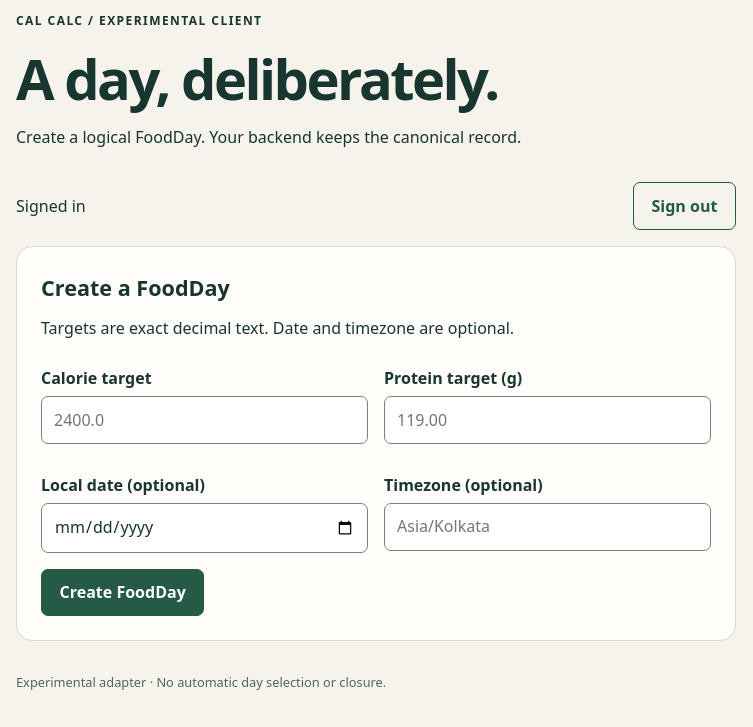
experimental FoodDay client › signs out and clears the prior result
Expected: the heading "Create a FoodDay" is shown, [41,273,230,302]
In the field labelled "Calorie target": (204, 420) [41,396,368,444], type "685.107500"
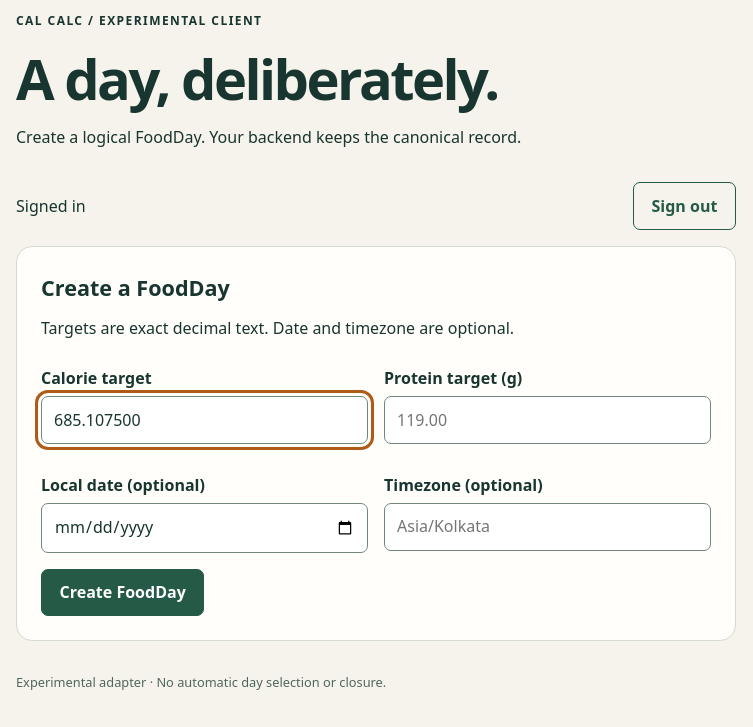
In the field labelled "Protein target (g)": (548, 420) [384,396,711,444], type "41.002500"
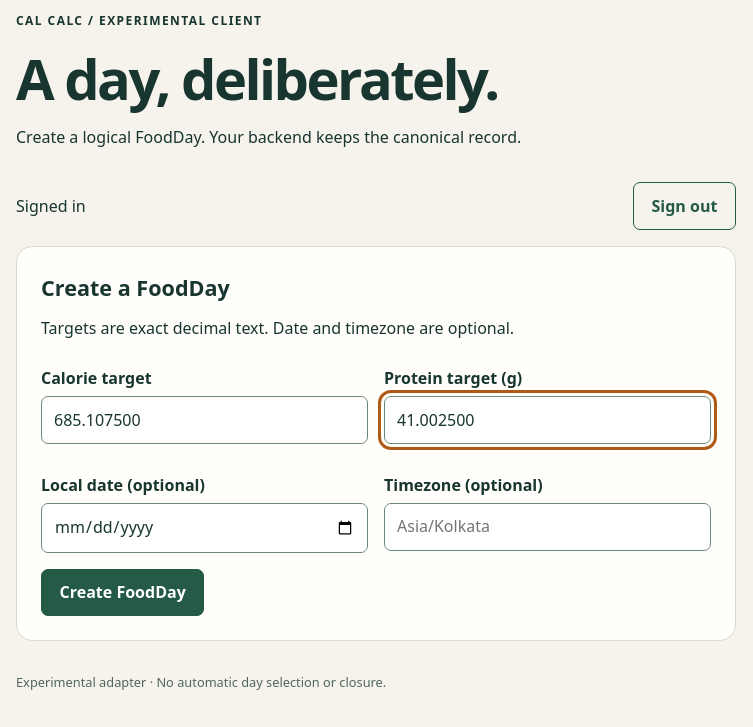
Click the button "Create FoodDay": (123, 592) [41,569,204,616]
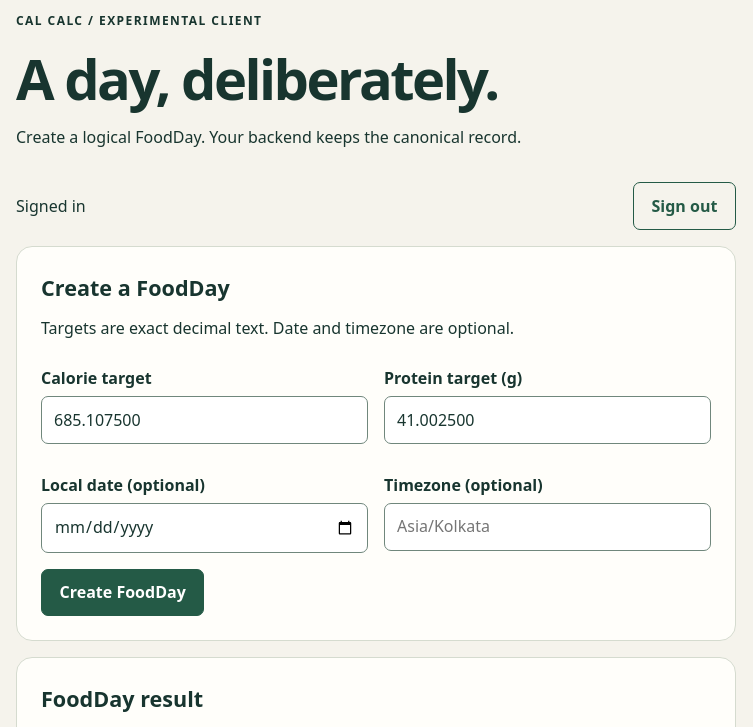
Click the button "Sign out": (684, 206) [633,182,736,230]
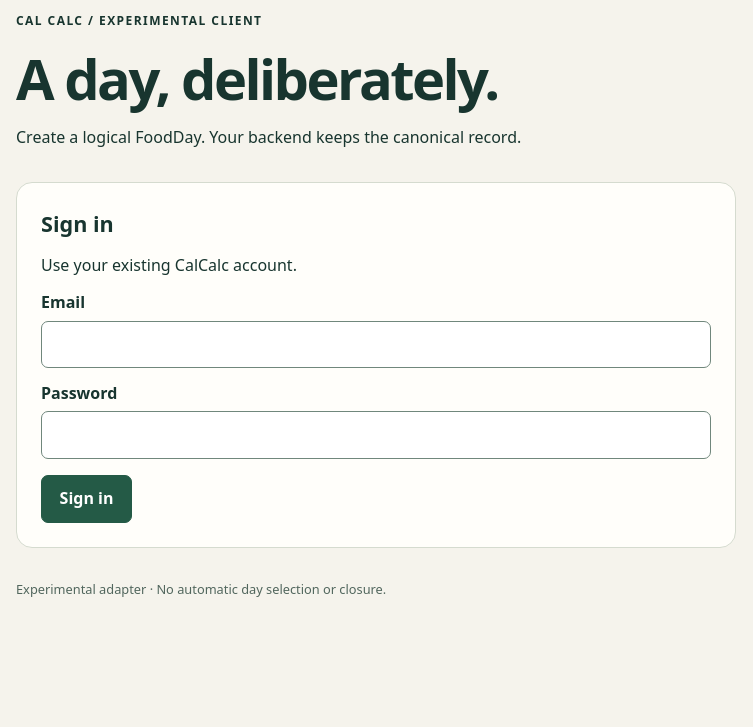
Result: the field labelled "Email" is shown at [41,321,711,368]
